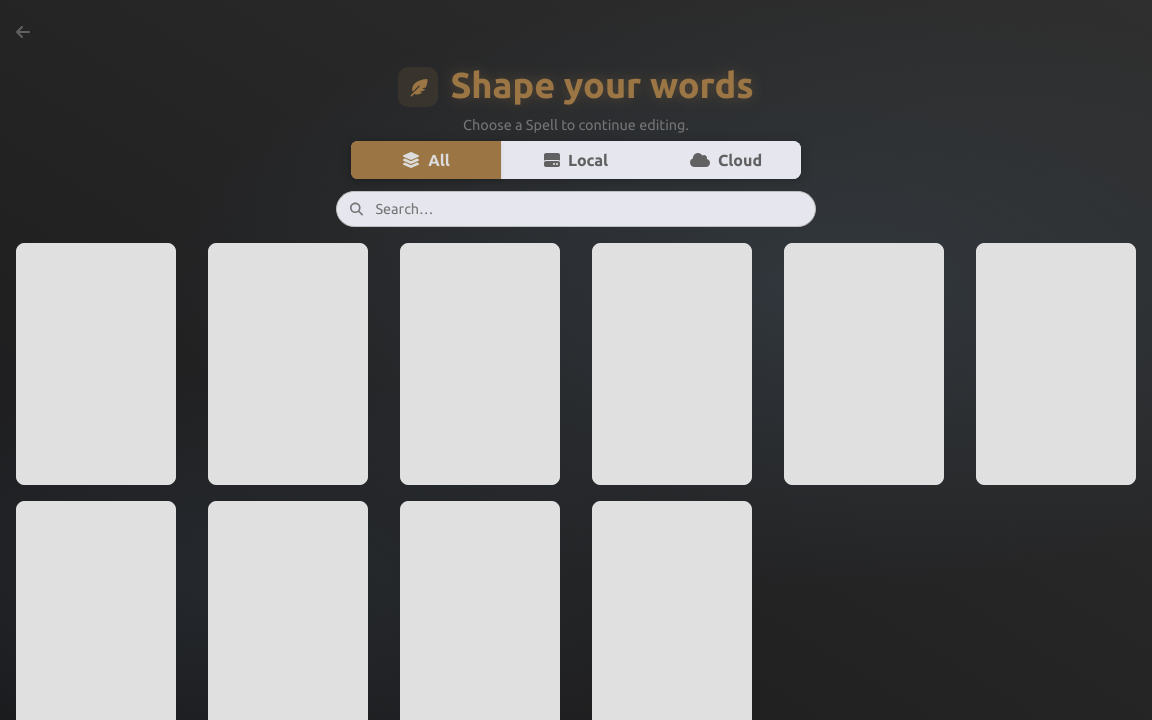
Test: EditorSelectLanding › shows no-results when query matches nothing
Type "zzznomatch" into the field with test id "editor-select-search" at x=576, y=209, box [336, 191, 816, 227]
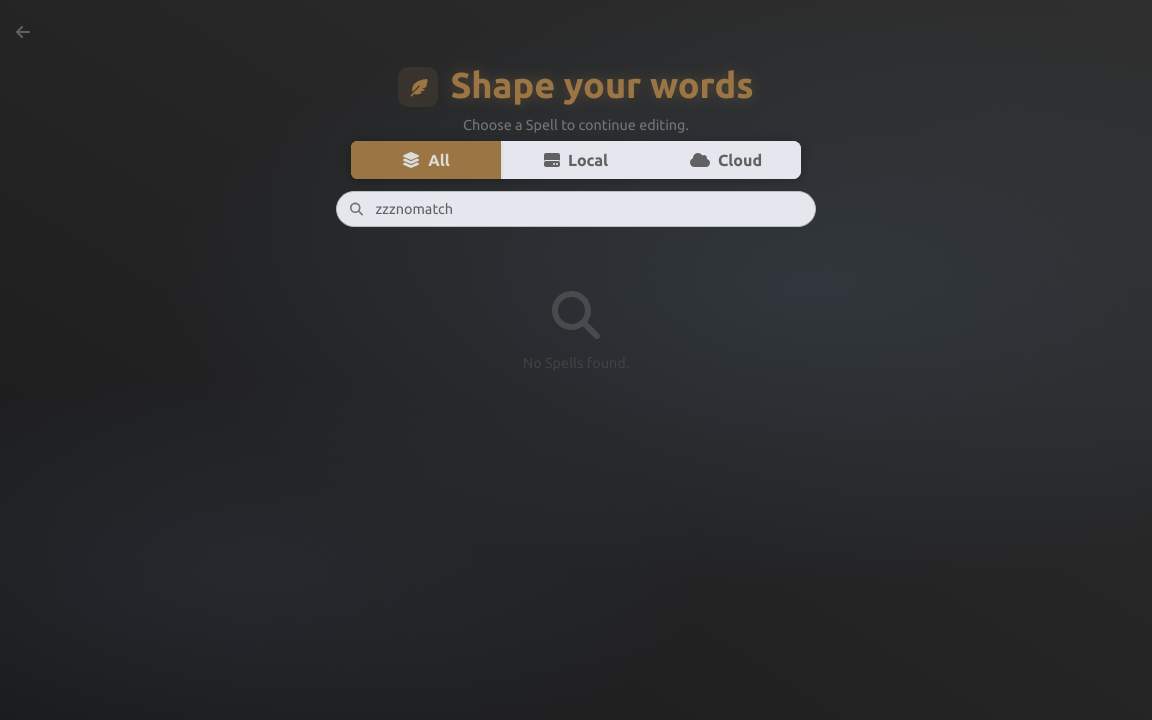
Result: the element with test id "editor-select-no-results" is shown at [523, 291, 629, 371]
